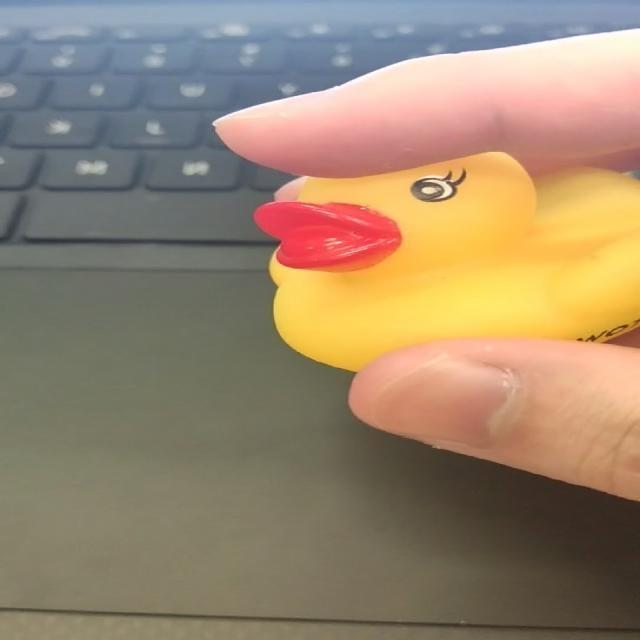rubber-duck: (269, 151, 638, 369)
